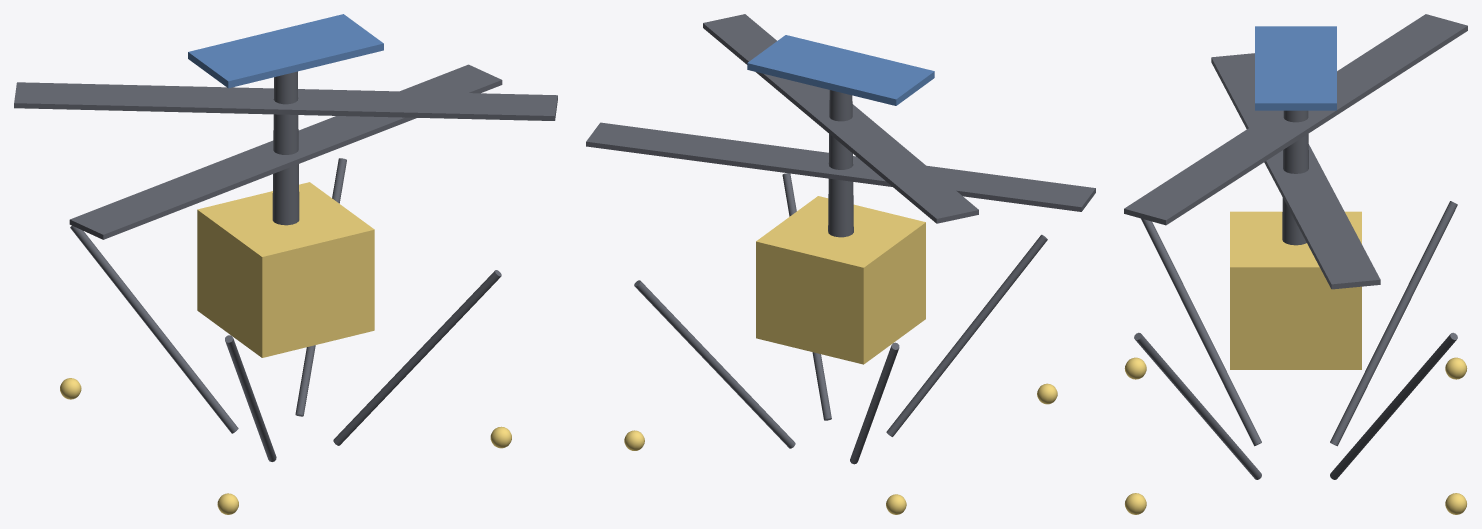
The model's file is ingenuity.glb.
The picture shows the model from 3 angles, left to right: view 1: azimuth 30°, elevation 25°; view 2: azimuth 150°, elevation 25°; view 3: azimuth 270°, elevation 25°; orthographic projection. The views are drawn at different scales.
Bounding box in the file's own units: 1.74 × 1.4 × 1.09.
